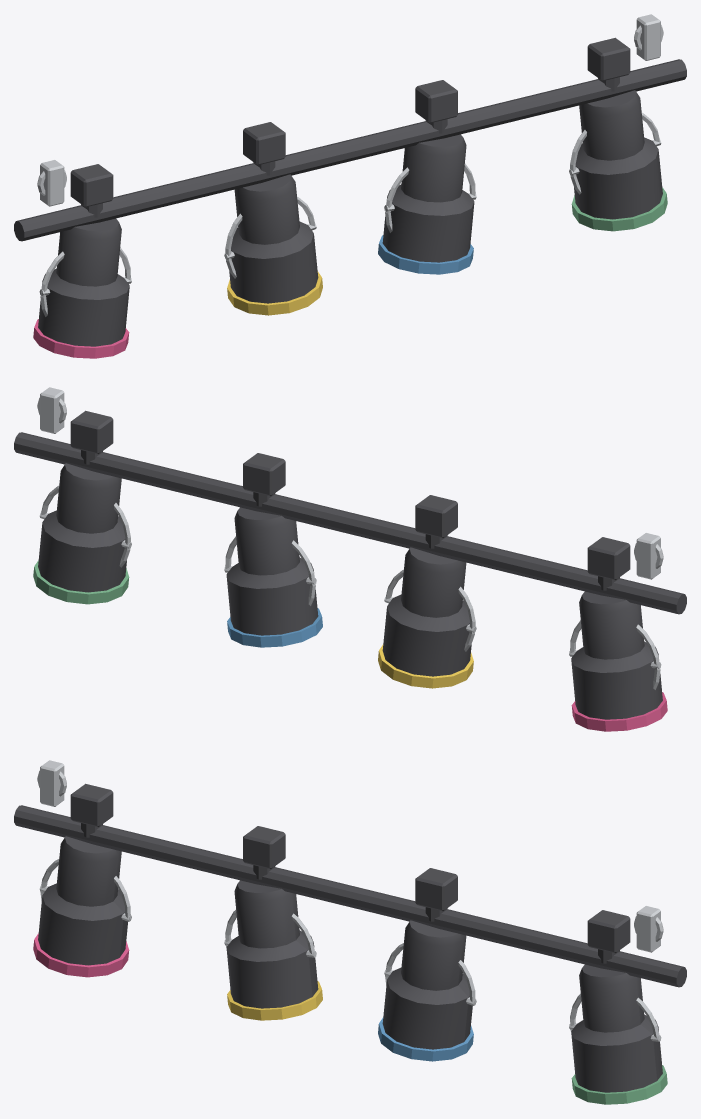
3 views of the same model, one above another, from view 1: azimuth 30°, elevation 25°; view 2: azimuth 150°, elevation 25°; view 3: azimuth 330°, elevation 25° (orthographic).
Parts seen in each view (by area): view 1: lighting-bar-with-par-cans; view 2: lighting-bar-with-par-cans; view 3: lighting-bar-with-par-cans.
Boxes of the visible parts, x1,y1,x2,y2 form: lighting-bar-with-par-cans: (14,14,686,358); lighting-bar-with-par-cans: (14,387,686,731); lighting-bar-with-par-cans: (14,760,686,1104).
Size of the model in its own units: 2 by 0.541 by 0.2437.
